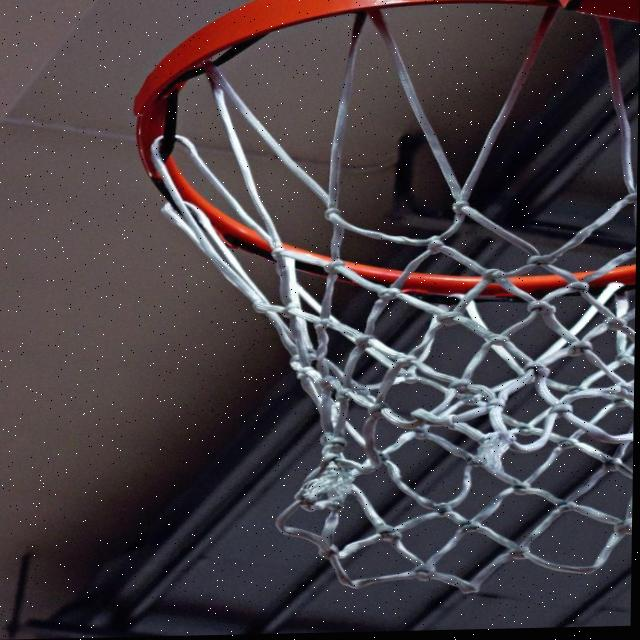hoop: (79, 0, 640, 589)
